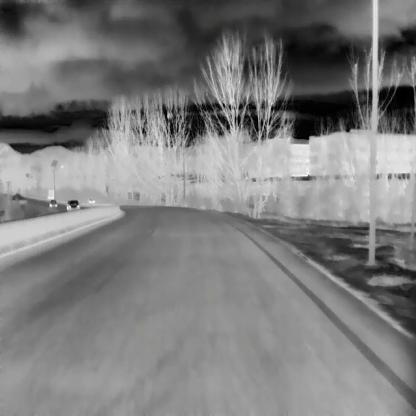car: (65, 199, 79, 211), (48, 199, 57, 206)
